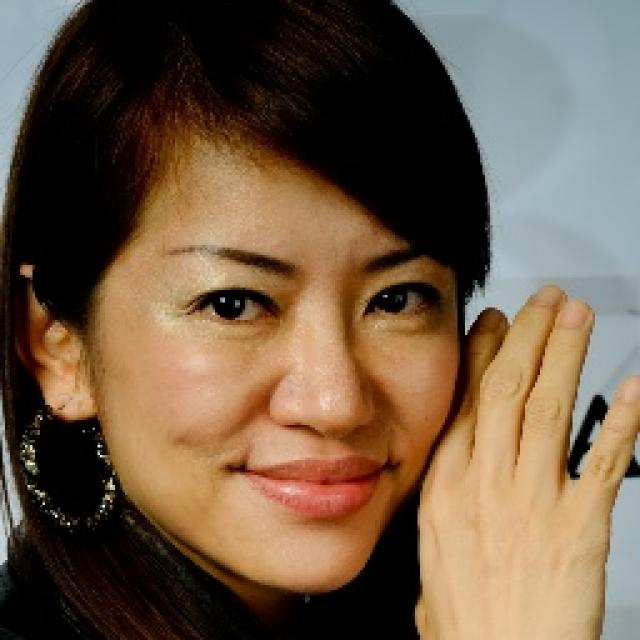earlobe: (2, 262, 98, 420)
